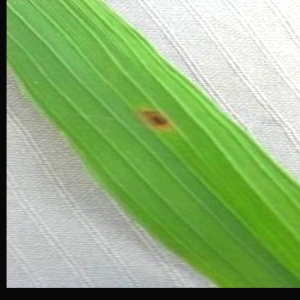Bacterial_Leaf_Blight: (133, 104, 177, 133)
